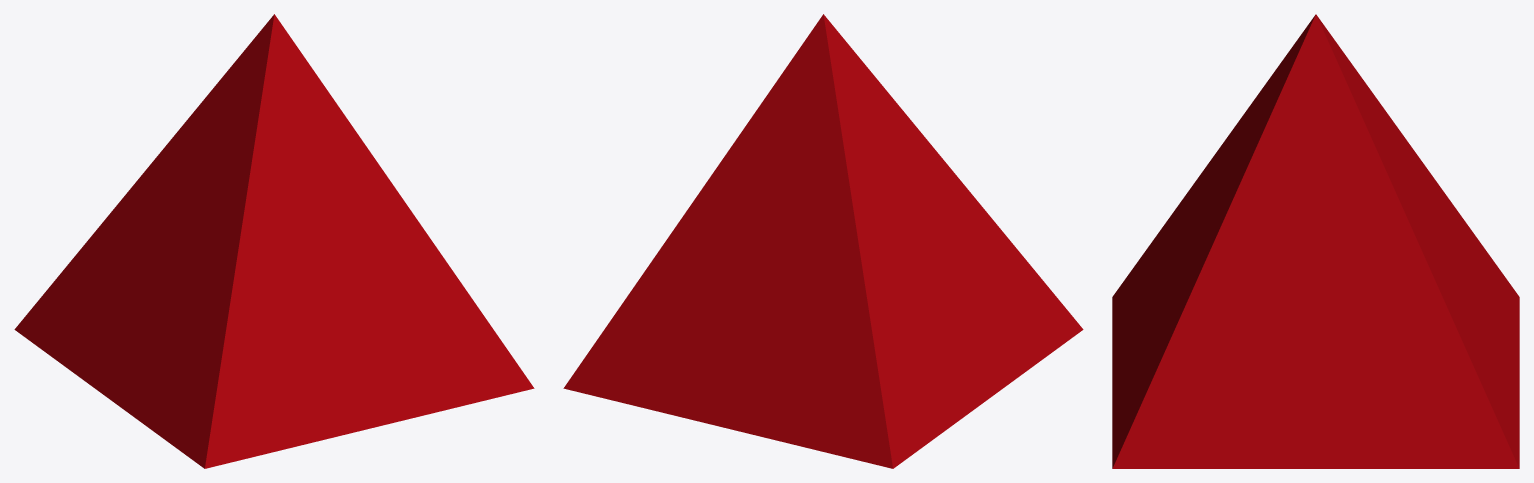
Rendered from Triangle.fbx.
The picture shows the model from 3 angles, left to right: view 1: azimuth 30°, elevation 25°; view 2: azimuth 150°, elevation 25°; view 3: azimuth 270°, elevation 25°; orthographic projection. The views are drawn at different scales.
Parts seen in each view (by area): view 1: Cube; view 2: Cube; view 3: Cube.
Boxes of the visible parts, x1,y1,x2,y2 form: Cube: (14, 14, 534, 468); Cube: (563, 14, 1083, 468); Cube: (1112, 14, 1519, 468).
Bounding box in the file's own units: 200 × 200 × 200.
